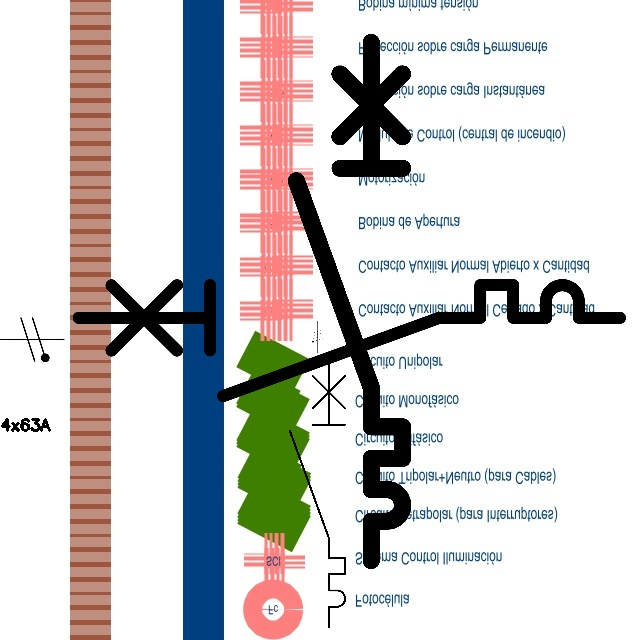interruptor_termomagnetico: (64, 271, 634, 410), (283, 29, 416, 574), (283, 352, 352, 633)
